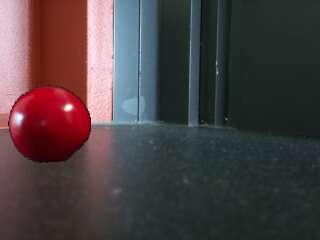Tomato: (8, 86, 91, 163)
